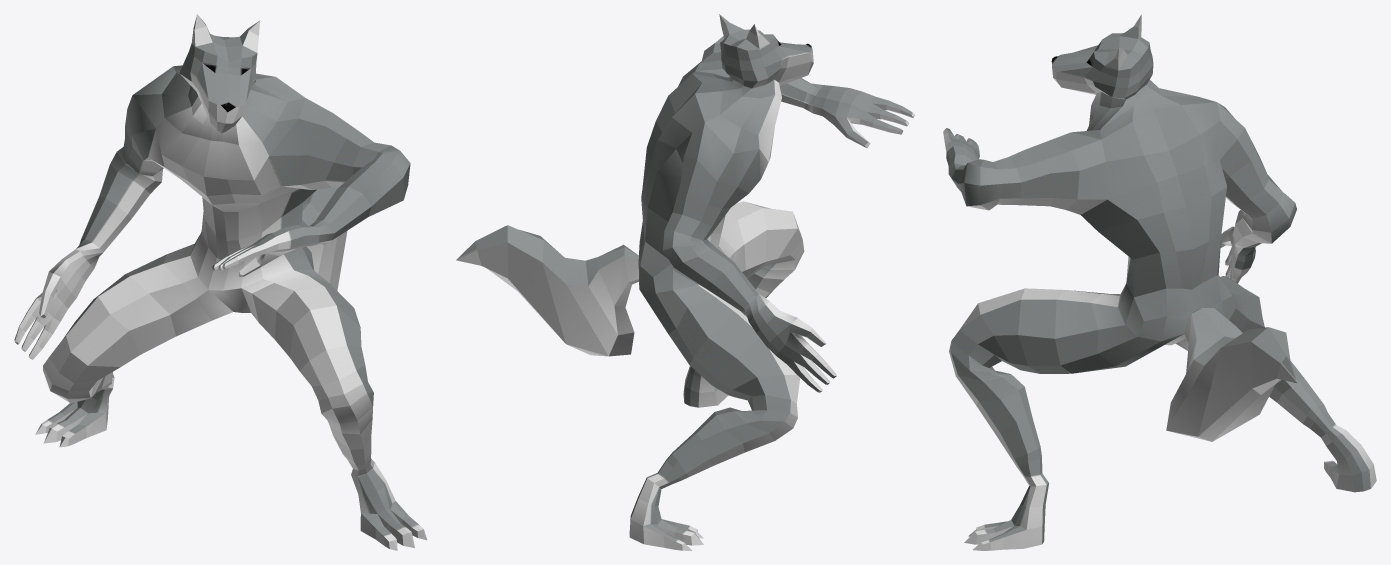
Rendered from WolfAttack(18).obj.
3 renders of one model, left to right at view 1: azimuth 30°, elevation 25°; view 2: azimuth 150°, elevation 25°; view 3: azimuth 270°, elevation 25°, orthographic. The views are drawn at different scales.
Visible parts, largest first — view 1: Box001; view 2: Box001; view 3: Box001.
Part boxes in pixels (x1,y1,x2,y2): Box001: (14, 14, 427, 550); Box001: (456, 14, 914, 550); Box001: (943, 14, 1376, 550).
Bounding box in the file's own units: 103 × 126 × 105.
